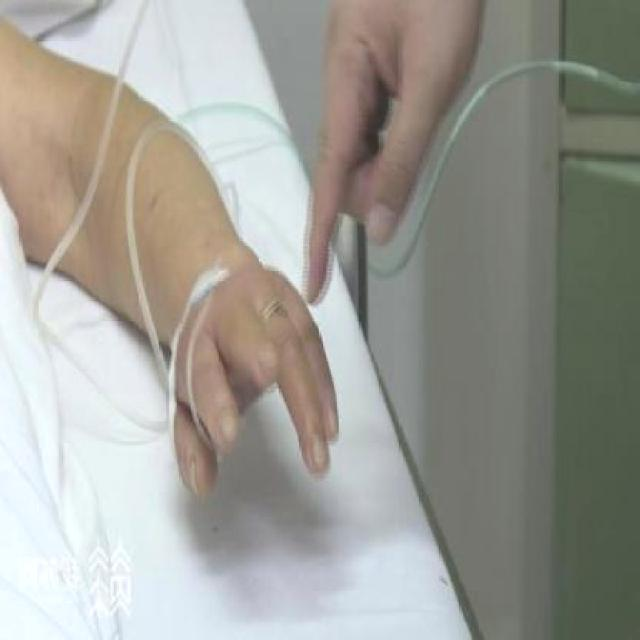hand_noglove: (303, 0, 488, 311), (169, 263, 343, 497)
